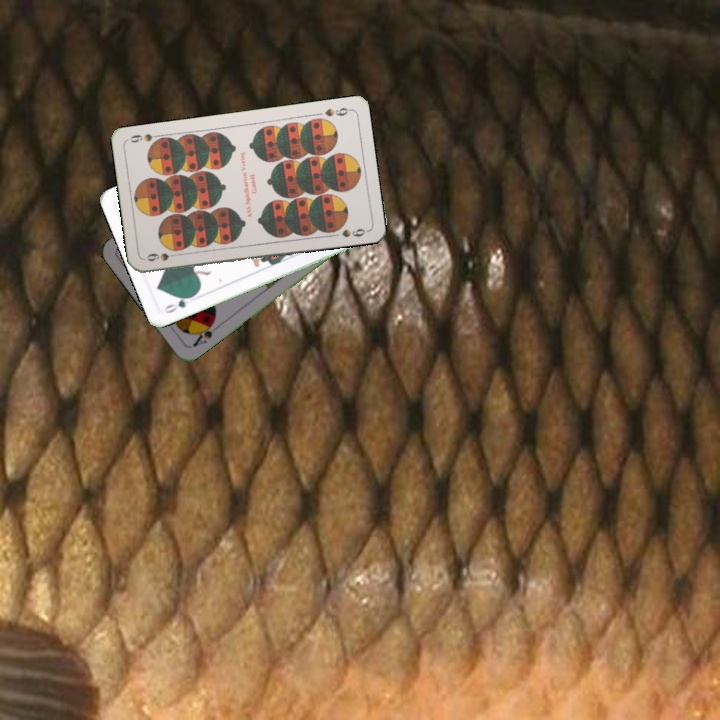GO: (160, 291, 197, 316)
S9: (143, 249, 182, 264), (321, 104, 353, 119)
SA: (189, 317, 217, 349)
